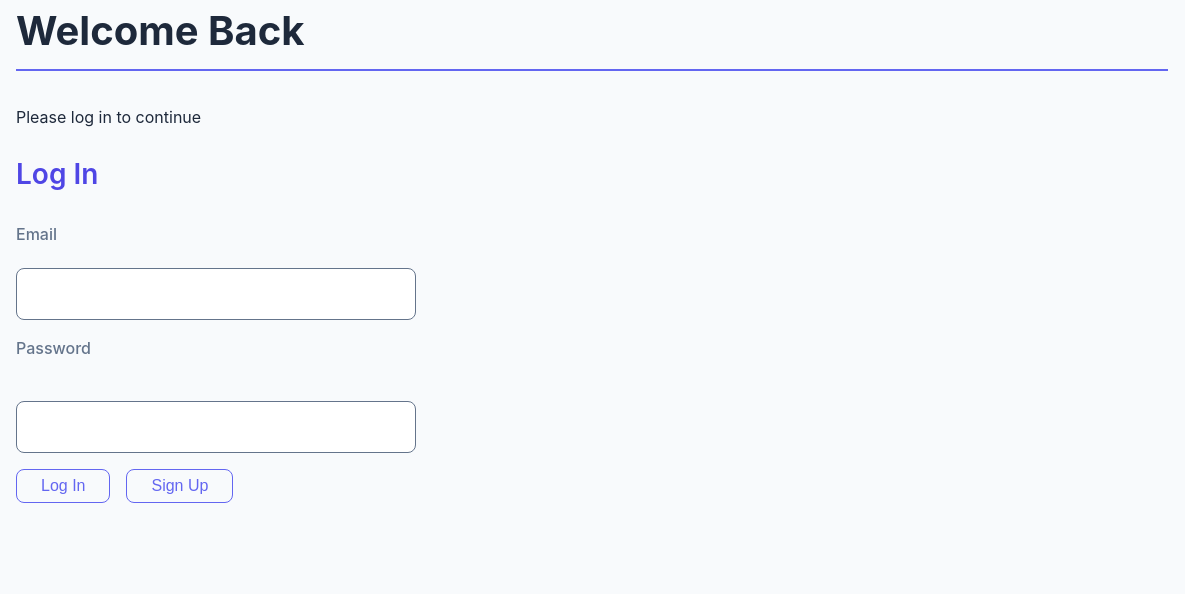
Login Component (direct form rendering) › shows error message on failed login
In the field labelled "Email": (216,294) [16,268,416,320], type "wrong@example.com"
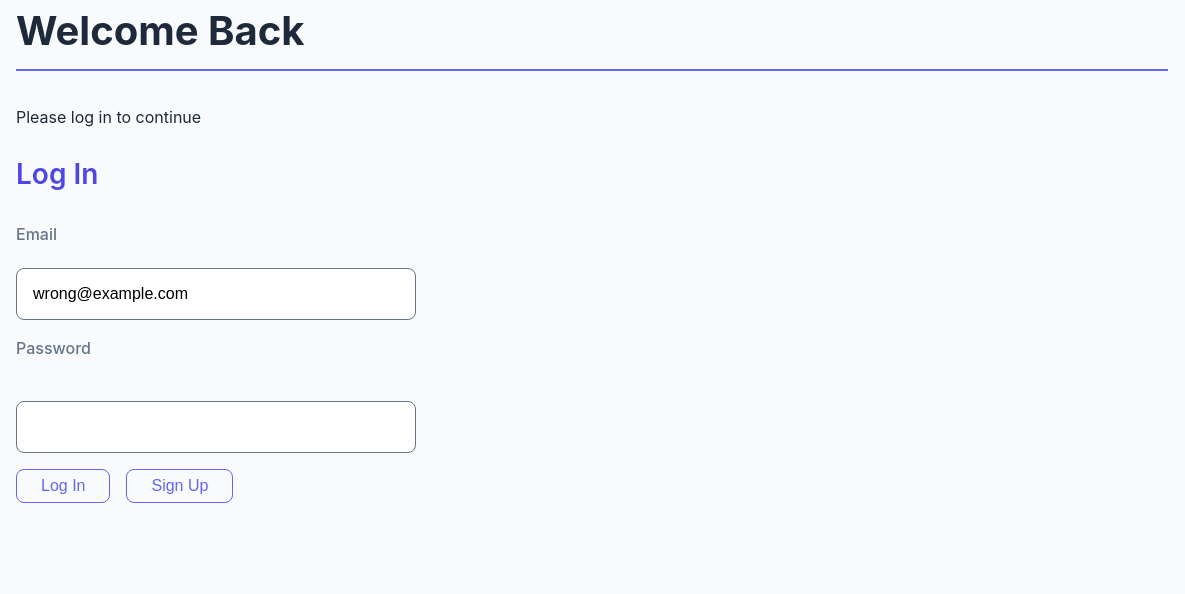
In the password field labelled "Password": (216,427) [16,401,416,453], type "wrongpass"
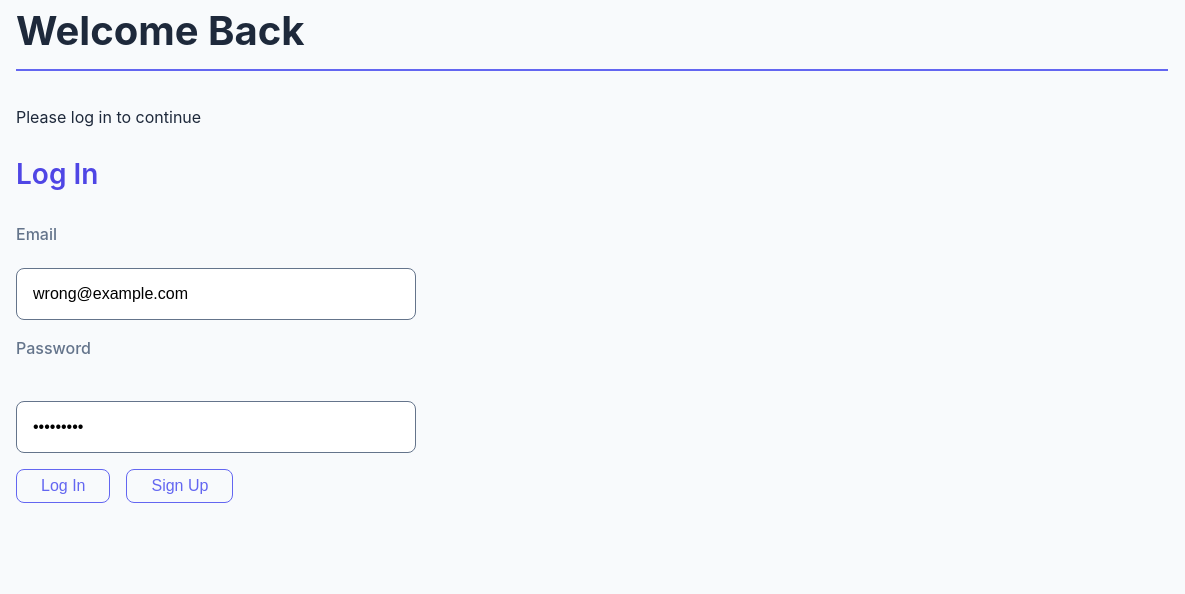
Click the button "Log In": (63,486) [16,469,110,503]
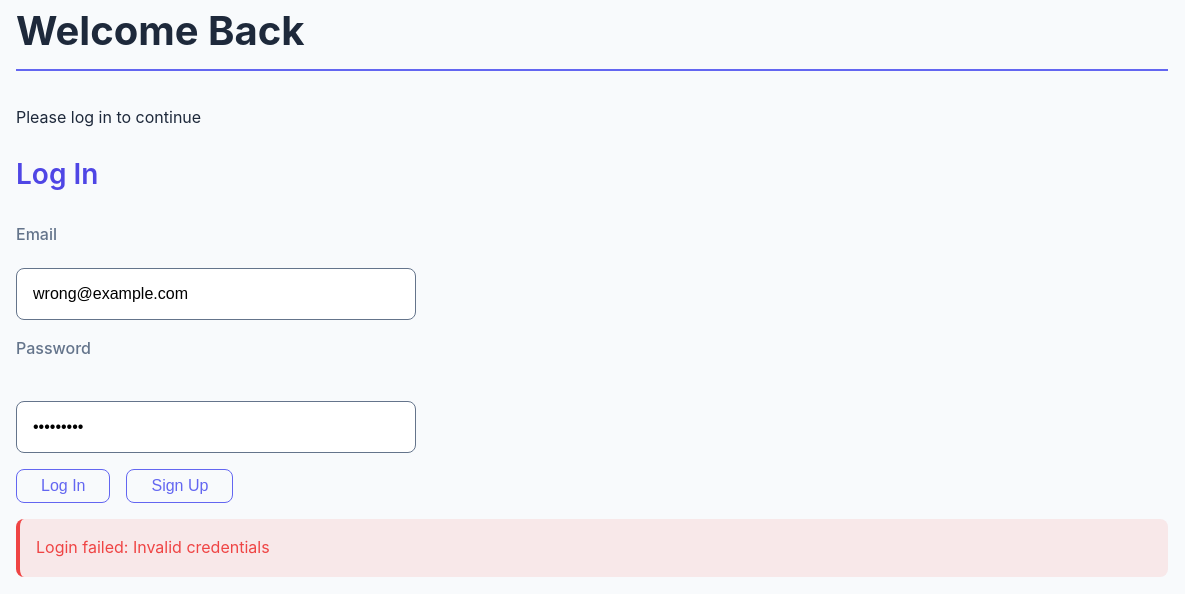
Result: the text "Login failed: Invalid credentials" is shown at [16,519,1168,577]
